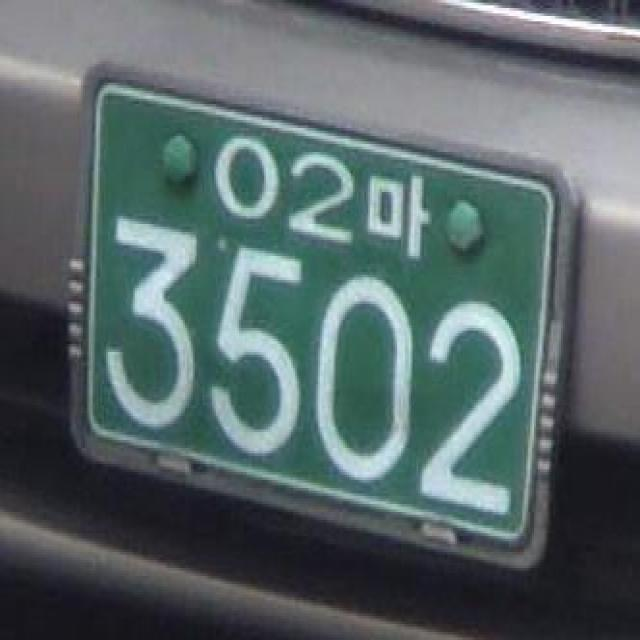illegal_plate: (70, 75, 580, 570)
